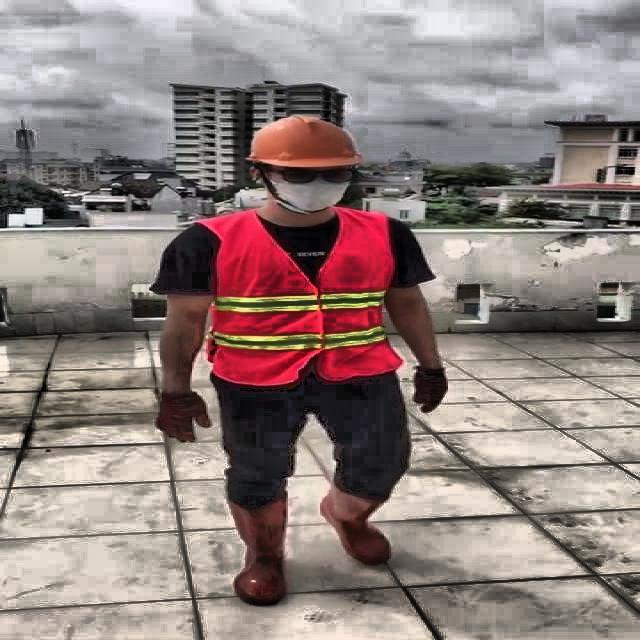safety_helmet: (240, 112, 372, 168)
safety_jacket: (206, 211, 395, 380)
